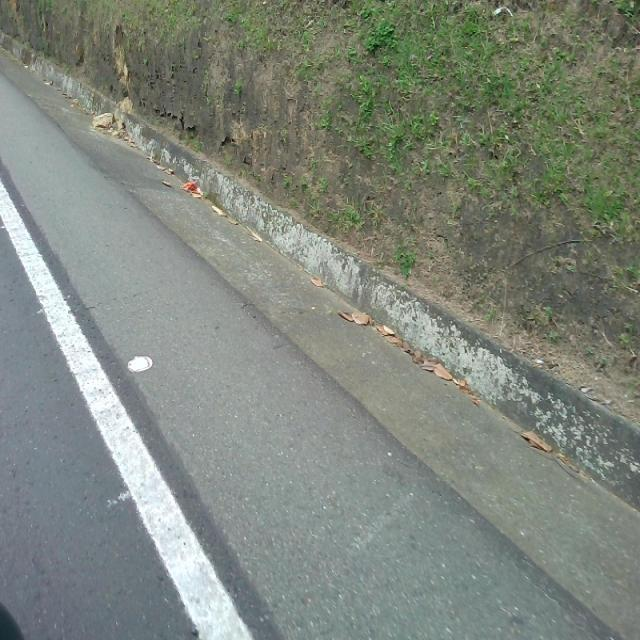DITCH: (1, 1, 639, 638), (1, 8, 638, 637), (1, 50, 638, 638)
